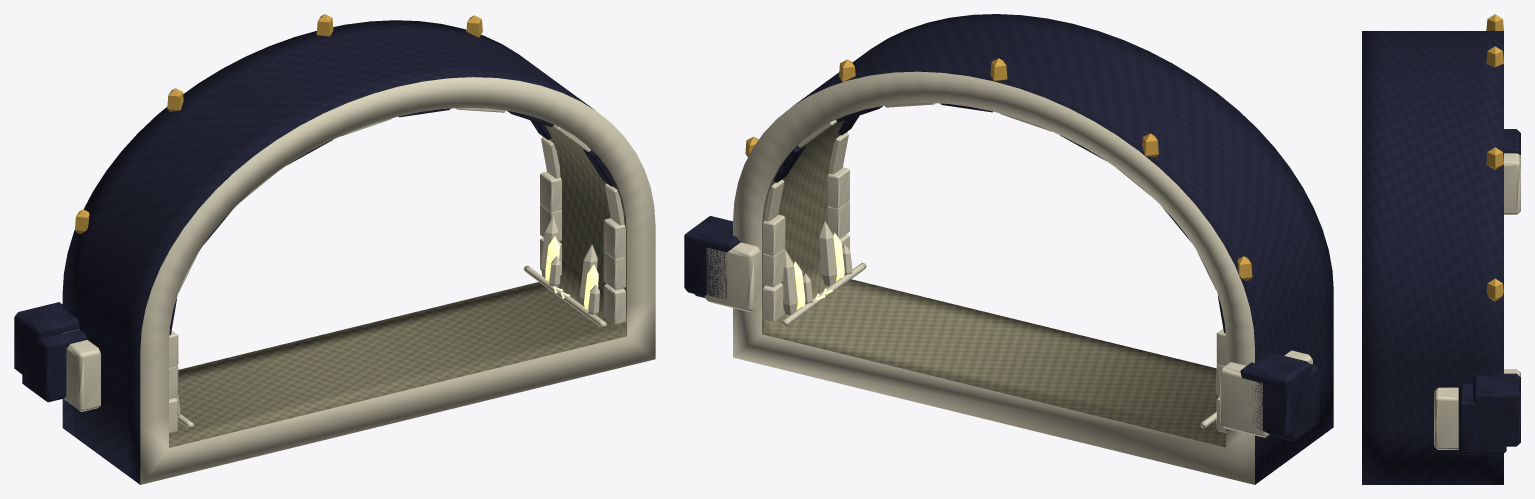
The model's file is portal_exit_lod1.glb.
3 views of the same model, side by side, from view 1: azimuth 30°, elevation 25°; view 2: azimuth 150°, elevation 25°; view 3: azimuth 270°, elevation 25° (orthographic). The views are drawn at different scales.
Visible parts, largest first — view 1: TunnelGeometry.001; view 2: TunnelGeometry.001; view 3: TunnelGeometry.001.
Part boxes in pixels (box(x1,y1,x2,y2)): TunnelGeometry.001: box(14, 14, 655, 484); TunnelGeometry.001: box(684, 14, 1333, 484); TunnelGeometry.001: box(1362, 14, 1520, 484).
Bounding box in the file's own units: 17.75 × 10.07 × 4.48.
Materials: 5 (2 with a texture image).
